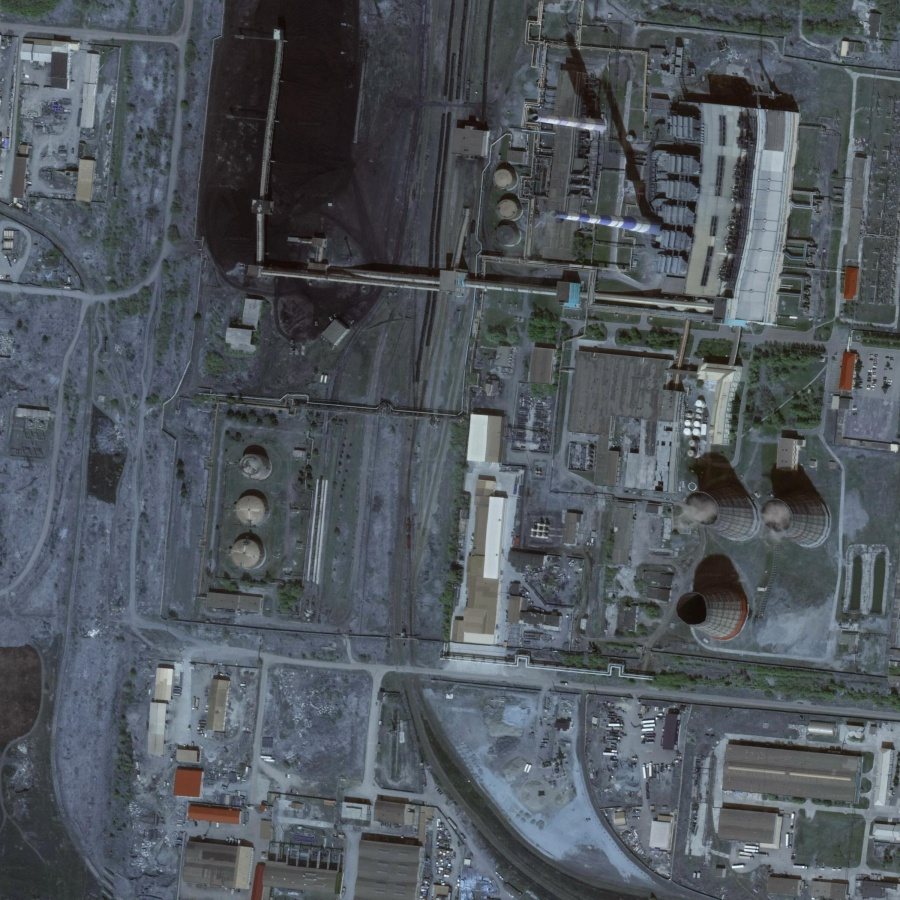PowerPlant: (512, 21, 701, 283), (668, 423, 857, 678), (190, 387, 338, 629)
